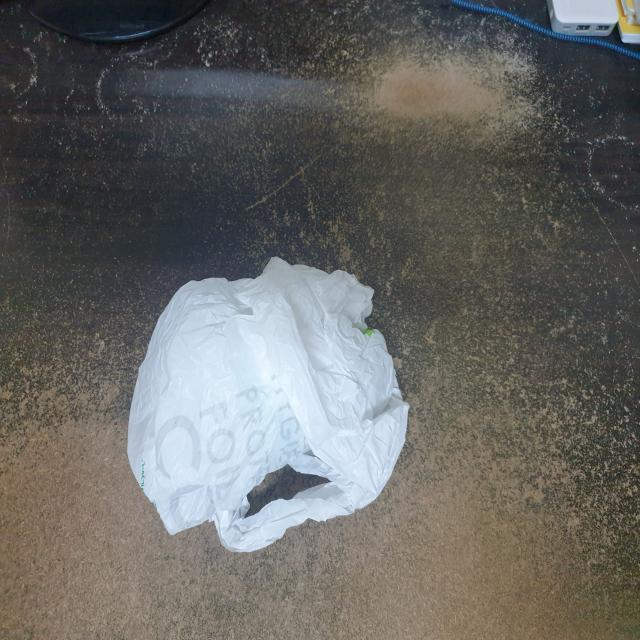Plastic_Bag: (118, 249, 417, 562)
